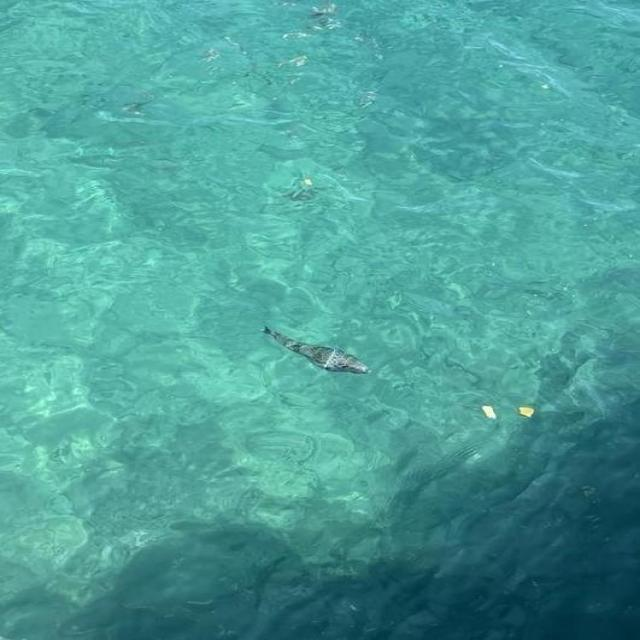Balon Baligi: (258, 324, 371, 376)
